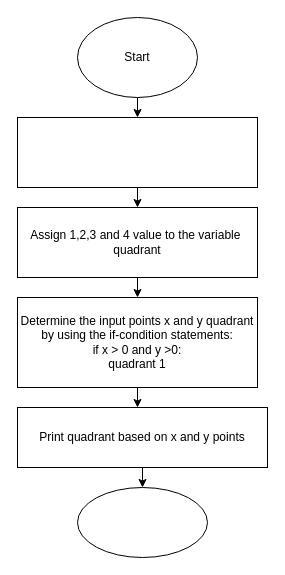
Some shapes in this 285 by 575 pixel diagram are drawn without their labels. The shapes that lost their labels are listed below. From the top down, each one's centre as x and y in pixels, then its label:
pixel 137 152: Enter two integers for the x and y coordinate values
pixel 142 522: End
